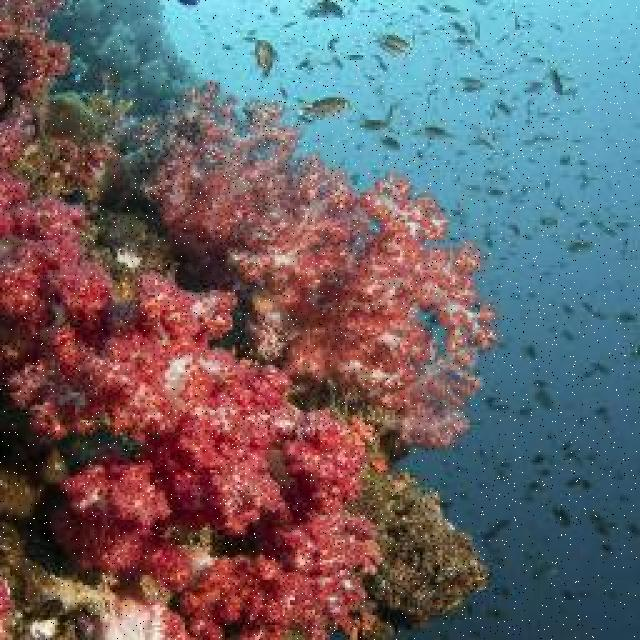reefs: (0, 1, 506, 638)
